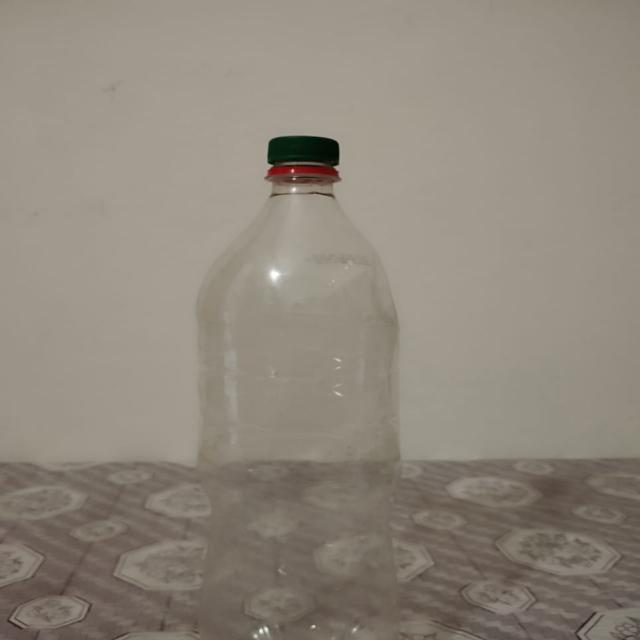bottle: (192, 133, 405, 640)
cap: (266, 135, 342, 176)
